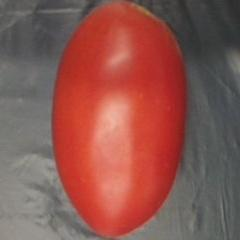unripe: (47, 0, 193, 240)
